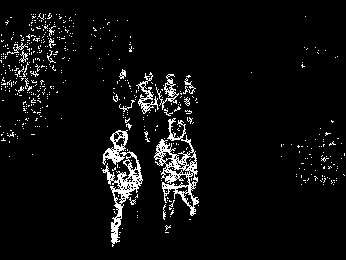person: (157, 119, 200, 224), (103, 129, 133, 248), (137, 71, 158, 139), (114, 68, 136, 128), (164, 73, 182, 136), (181, 74, 197, 127)
